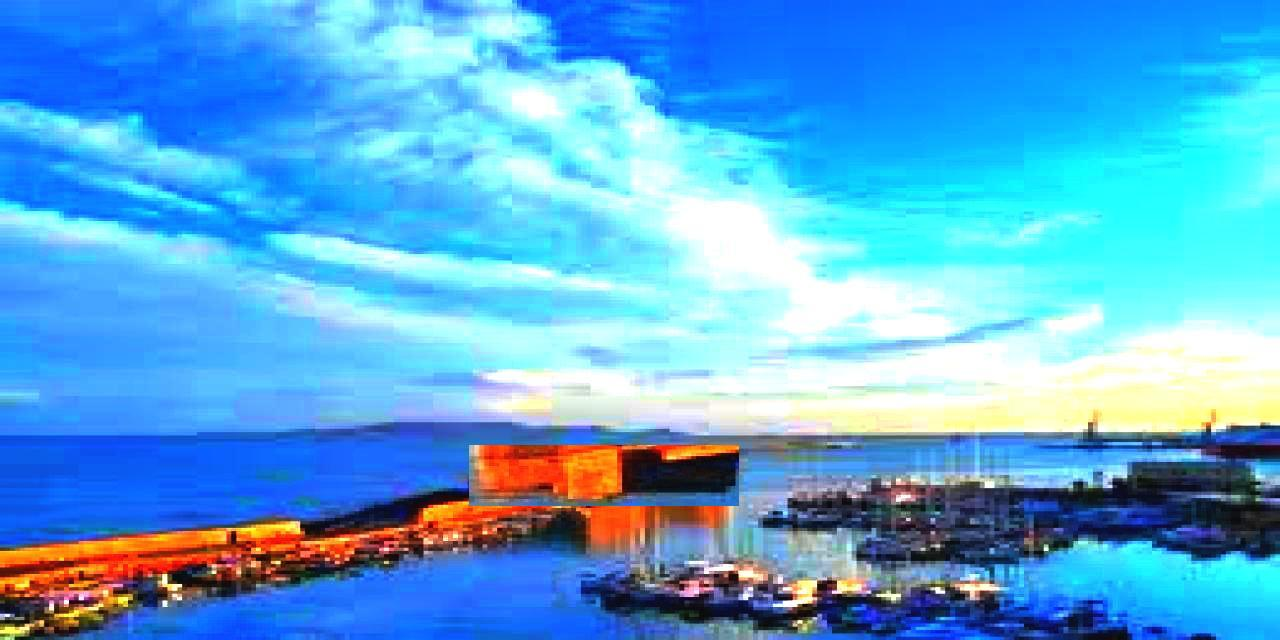Kules: (470, 446, 740, 507)
